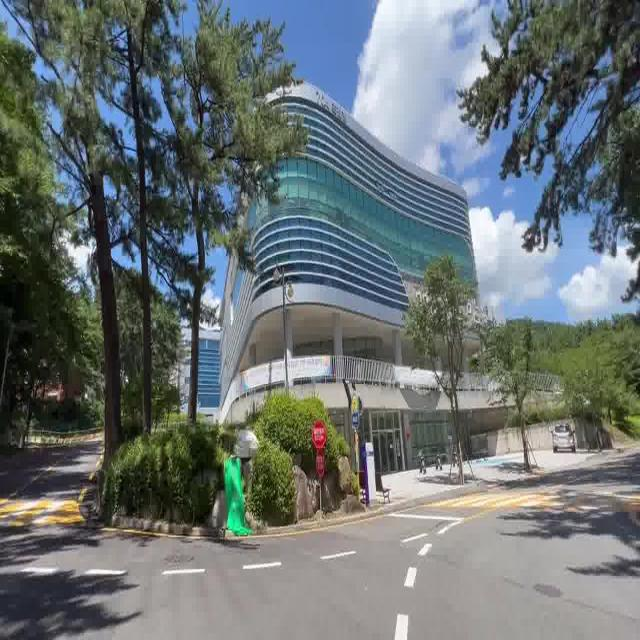building: (298, 81, 418, 412)
